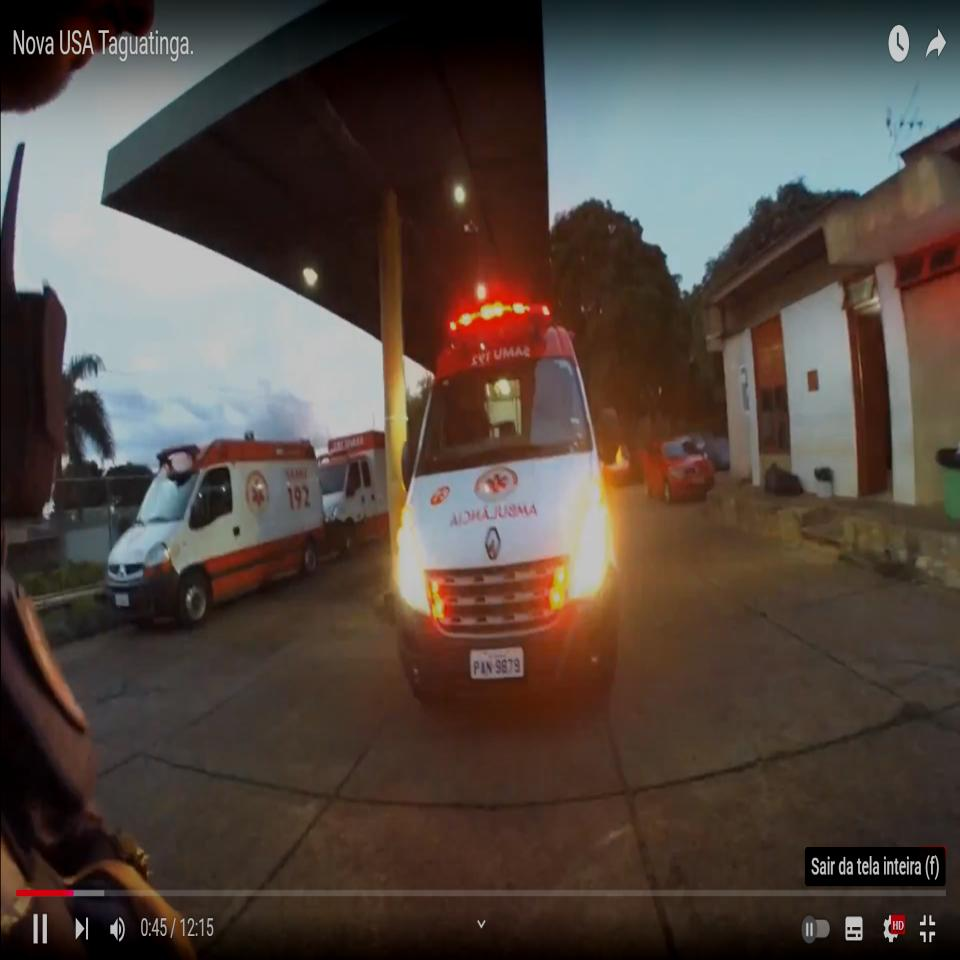ambulancia: (391, 300, 626, 712), (105, 437, 332, 632)
